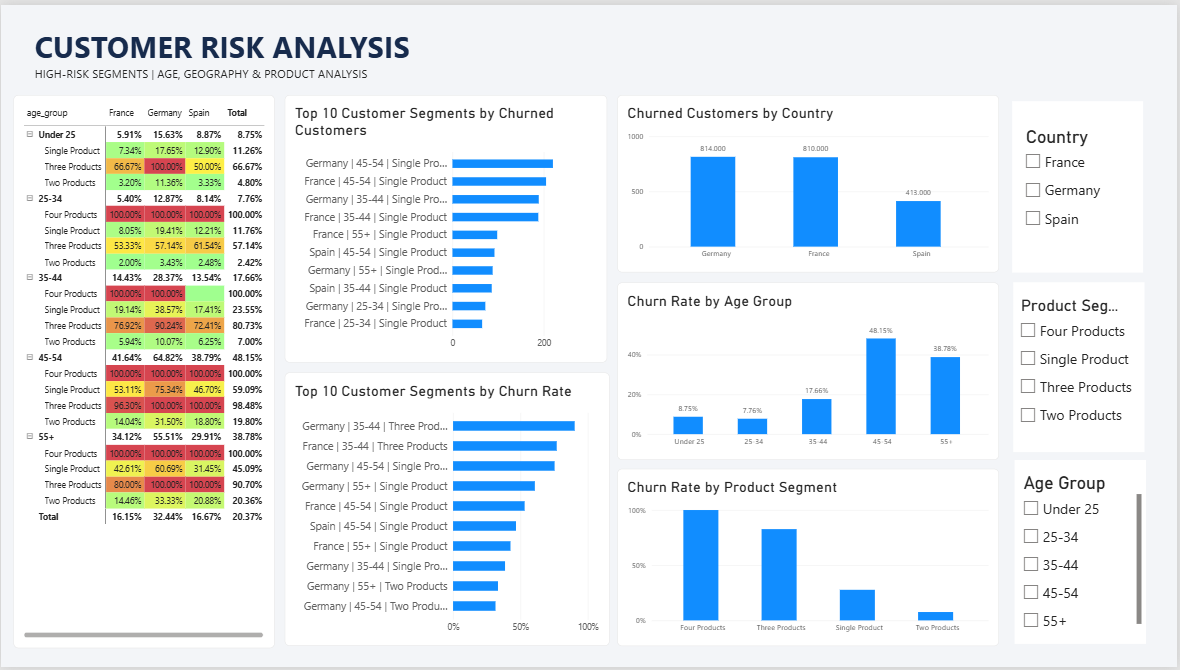

The page's visual inventory and layout, read from the dashboard file:
{"tool":"powerbi","page":{"name":"Customer Risk Analysis","canvas":[1920,1080],"ordinal":1},"visuals":[{"type":"pivotTable","fields":{"Columns":["Bank_Customer_Churn_Cleaned.country"],"Rows":["Bank_Customer_Churn_Cleaned.age_group","Bank_Customer_Churn_Cleaned.product_segment"],"Values":["Bank_Customer_Churn_Cleaned.Churn Rate"]},"box":[20,146.7,426.7,903.3],"z":0},{"type":"clusteredColumnChart","title":"Churned Customers by Country","fields":{"Category":["Bank_Customer_Churn_Cleaned.country"],"Y":["Bank_Customer_Churn_Cleaned.Churned Customers"]},"box":[1006.7,146.7,623.3,289.4],"z":0,"group":"g4"},{"type":"shape","box":[1652.8,452.4,213.6,277],"z":0,"group":"g6"},{"type":"shape","box":[1653.1,742.2,214.2,300.1],"z":0,"group":"g1"},{"type":"textbox","box":[54.5,34.1,722.7,225],"z":1000},{"type":"shape","box":[1650,156.7,213.6,279.7],"z":1000,"group":"g2"},{"type":"clusteredColumnChart","title":"Churn Rate by Age Group","fields":{"Category":["Bank_Customer_Churn_Cleaned.age_group"],"Y":["Bank_Customer_Churn_Cleaned.Churn Rate"]},"box":[1006.7,452,623.3,289.4],"z":1000,"group":"g4"},{"type":"group","id":"g1","title":"Group 6","box":[1653.1,742.2,213.6,299.6],"z":1000,"group":"g5"},{"type":"clusteredBarChart","title":"Top 10 Customer Segments by Churned Customers","fields":{"Category":["Bank_Customer_Churn_Cleaned.Customer Segment"],"Y":["Bank_Customer_Churn_Cleaned.Churned Customers"]},"box":[463.3,146.7,526.7,436.7],"z":2000},{"type":"group","id":"g2","title":"Group 7","box":[1650,156.7,214.3,280.1],"z":2000,"group":"g5"},{"type":"clusteredColumnChart","title":"Churn Rate by Product Segment","fields":{"Category":["Bank_Customer_Churn_Cleaned.product_segment"],"Y":["Bank_Customer_Churn_Cleaned.Churn Rate"]},"box":[1006.7,757.3,623.3,289.4],"z":2000,"group":"g4"},{"type":"group","id":"g3","title":"Group 8","box":[1652.8,452.4,213.6,277],"z":3000,"group":"g5"},{"type":"clusteredBarChart","title":"Top 10 Customer Segments by Churn Rate","fields":{"Category":["Bank_Customer_Churn_Cleaned.Customer Segment"],"Y":["Bank_Customer_Churn_Cleaned.Churn Rate (30+ Customers)"]},"box":[463.3,600,530,446.7],"z":3000},{"type":"group","id":"g4","title":"Group 1","box":[1006.7,146.7,623.3,900],"z":4000},{"type":"group","id":"g5","title":"Group 14","box":[1650,156.7,216.7,886.7],"z":5000},{"type":"slicer","title":"Select Country","fields":{"Values":["Bank_Customer_Churn_Cleaned.country"]},"box":[1665.1,197.4,179.5,193.8],"z":9000,"group":"g2"},{"type":"slicer","fields":{"Values":["Bank_Customer_Churn_Cleaned.age_group"]},"box":[1659.8,762.5,200.9,259.4],"z":9000,"group":"g1"},{"type":"slicer","fields":{"Values":["Bank_Customer_Churn_Cleaned.product_segment"]},"box":[1657.4,475.4,204.3,238.3],"z":10000,"group":"g6"},{"type":"group","id":"g6","title":"Group 11","box":[1652.8,452.4,213.6,277],"z":13005,"group":"g3"}]}

Visuals, with their boxes in screenshot pixels (x1, y1, x2, y2), scaled from the page's 1920x1080 canvas onto the 1180x670 screenshot:
pivotTable - Bank_Customer_Churn_Cleaned.country x Bank_Customer_Churn_Cleaned.age_group: x1=12, y1=91, x2=275, y2=651
"Churned Customers by Country" clusteredColumnChart: x1=619, y1=91, x2=1002, y2=271
shape: x1=1016, y1=281, x2=1147, y2=452
shape: x1=1016, y1=460, x2=1148, y2=647
textbox: x1=33, y1=21, x2=478, y2=161
shape: x1=1014, y1=97, x2=1145, y2=271
"Churn Rate by Age Group" clusteredColumnChart: x1=619, y1=280, x2=1002, y2=460
"Group 6" group: x1=1016, y1=460, x2=1147, y2=646
"Top 10 Customer Segments by Churned Customers" clusteredBarChart: x1=285, y1=91, x2=608, y2=362
"Group 7" group: x1=1014, y1=97, x2=1146, y2=271
"Churn Rate by Product Segment" clusteredColumnChart: x1=619, y1=470, x2=1002, y2=649
"Group 8" group: x1=1016, y1=281, x2=1147, y2=452
"Top 10 Customer Segments by Churn Rate" clusteredBarChart: x1=285, y1=372, x2=610, y2=649
"Group 1" group: x1=619, y1=91, x2=1002, y2=649
"Group 14" group: x1=1014, y1=97, x2=1147, y2=647
"Select Country" slicer: x1=1023, y1=122, x2=1134, y2=243
slicer - Bank_Customer_Churn_Cleaned.age_group: x1=1020, y1=473, x2=1144, y2=634
slicer - Bank_Customer_Churn_Cleaned.product_segment: x1=1019, y1=295, x2=1144, y2=443
"Group 11" group: x1=1016, y1=281, x2=1147, y2=452
